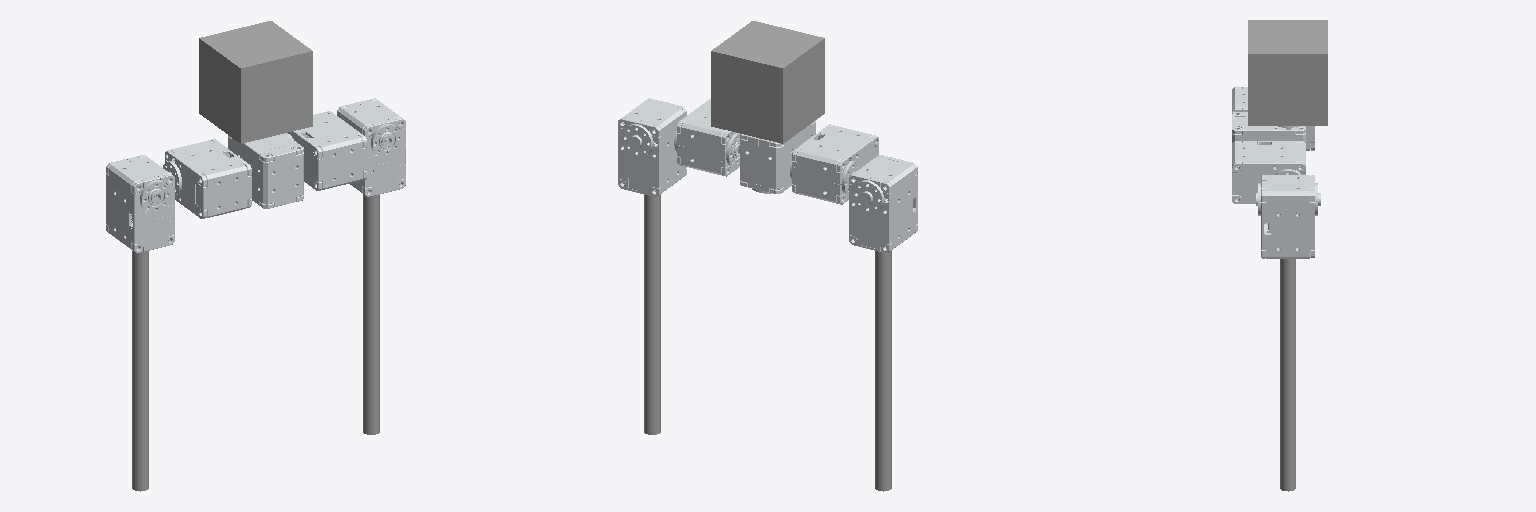
URDF robot description (chopstick_bot):
<?xml version='1.0' encoding='utf-8'?>
<robot name="chopstick_bot">
  <link name="world" />
  <joint name="world_to_base" type="fixed">
    <origin xyz="0.000000 0.000000 0.270000" rpy="0.000000 0.000000 0.000000" />
    <parent link="world" />
    <child link="base_motor_link" />
    </joint>
  <link name="base_motor_link">
    <visual>
      <origin xyz="0.000000 0.000000 0.000000" rpy="0.000000 0.000000 0.000000" />
      <geometry>
        <mesh filename="meshes/XL-430_new_coordinate_on_axis.STL" scale="0.001000 0.001000 0.001000" />
        </geometry>
      <material name="motor_mat">
        <color rgba="0.89804 0.91765 0.92941 1.0" />
        </material>
      </visual>
    <collision>
      <origin xyz="0.000000 -0.012000 0.000000" rpy="0.000000 0.000000 0.000000" />
      <geometry>
        <box size="0.028500 0.046500 0.034000" />
        </geometry>
      </collision>
    <inertial>
      <origin xyz="0.000000 -0.012000 0.000000" rpy="0.000000 0.000000 0.000000" />
      <mass value="0.065000" />
      <inertia ixx="0.000017973854" ixy="0" ixz="0" iyy="0.000010661354" iyz="0" izz="0.000016111875" />
      </inertial>
    </link>
  <link name="l_hip_pitch">
    <visual>
      <origin xyz="0.000000 0.000000 0.000000" rpy="0.000000 0.000000 0.000000" />
      <geometry>
        <mesh filename="meshes/XL-430_new_coordinate_on_axis.STL" scale="0.001000 0.001000 0.001000" />
        </geometry>
      <material name="motor_mat">
        <color rgba="0.89804 0.91765 0.92941 1.0" />
        </material>
      </visual>
    <collision>
      <origin xyz="0.000000 -0.012000 0.000000" rpy="0.000000 0.000000 0.000000" />
      <geometry>
        <box size="0.028500 0.046500 0.034000" />
        </geometry>
      </collision>
    <inertial>
      <origin xyz="0.000000 -0.012000 0.000000" rpy="0.000000 0.000000 0.000000" />
      <mass value="0.065000" />
      <inertia ixx="0.000017973854" ixy="0" ixz="0" iyy="0.000010661354" iyz="0" izz="0.000016111875" />
      </inertial>
    </link>
  <link name="l_hip_pitch_out">
    <inertial>
      <origin xyz="0.000000 0.000000 0.000000" rpy="0.000000 0.000000 0.000000" />
      <mass value="0.001000" />
      <inertia ixx="0.000000016667" ixy="0" ixz="0" iyy="0.000000016667" iyz="0" izz="0.000000016667" />
      </inertial>
    </link>
  <joint name="l_hip_pitch_mount_fixed" type="fixed">
    <origin xyz="-0.040000 0.000000 0.000000" rpy="0.000000 -1.570796 0.000000" />
    <parent link="base_motor_link" />
    <child link="l_hip_pitch" />
    </joint>
  <joint name="l_hip_pitch_joint" type="revolute">
    <origin xyz="0.000000 0.000000 0.000000" rpy="0.000000 0.000000 0.000000" />
    <parent link="l_hip_pitch" />
    <child link="l_hip_pitch_out" />
    <axis xyz="0.000000 0.000000 1.000000" />
    <limit lower="-3.14159" upper="3.14159" effort="5.0" velocity="8.0" />
    </joint>
  <link name="l_hip_roll">
    <visual>
      <origin xyz="0.000000 0.000000 0.000000" rpy="0.000000 0.000000 0.000000" />
      <geometry>
        <mesh filename="meshes/XL-430_new_coordinate_on_axis.STL" scale="0.001000 0.001000 0.001000" />
        </geometry>
      <material name="motor_mat">
        <color rgba="0.89804 0.91765 0.92941 1.0" />
        </material>
      </visual>
    <collision>
      <origin xyz="0.000000 -0.012000 0.000000" rpy="0.000000 0.000000 0.000000" />
      <geometry>
        <box size="0.028500 0.046500 0.034000" />
        </geometry>
      </collision>
    <inertial>
      <origin xyz="0.000000 -0.012000 0.000000" rpy="0.000000 0.000000 0.000000" />
      <mass value="0.065000" />
      <inertia ixx="0.000017973854" ixy="0" ixz="0" iyy="0.000010661354" iyz="0" izz="0.000016111875" />
      </inertial>
    </link>
  <link name="l_hip_roll_out">
    <inertial>
      <origin xyz="0.000000 0.000000 0.000000" rpy="0.000000 0.000000 0.000000" />
      <mass value="0.001000" />
      <inertia ixx="0.000000016667" ixy="0" ixz="0" iyy="0.000000016667" iyz="0" izz="0.000000016667" />
      </inertial>
    </link>
  <joint name="l_hip_roll_mount_fixed" type="fixed">
    <origin xyz="0.000000 0.000000 0.040000" rpy="0.000000 -1.570796 -1.570796" />
    <parent link="l_hip_pitch_out" />
    <child link="l_hip_roll" />
    </joint>
  <joint name="l_hip_roll_joint" type="revolute">
    <origin xyz="0.000000 0.000000 0.000000" rpy="0.000000 0.000000 0.000000" />
    <parent link="l_hip_roll" />
    <child link="l_hip_roll_out" />
    <axis xyz="0.000000 0.000000 1.000000" />
    <limit lower="-3.14159" upper="3.14159" effort="5.0" velocity="8.0" />
    </joint>
  <link name="l_end_effector">
    <visual>
      <origin xyz="0.000000 0.000000 0.000000" rpy="1.570796 0.000000 0.000000" />
      <geometry>
        <cylinder radius="0.005000" length="0.200000" />
        </geometry>
      <material name="cylinder_mat">
        <color rgba="0.7 0.7 0.7 1.0" />
        </material>
      </visual>
    <collision>
      <origin xyz="0.000000 -0.100000 0.000000" rpy="0.000000 0.000000 0.000000" />
      <geometry>
        <box size="0.020000 0.020000 0.020000" />
        </geometry>
      </collision>
    <inertial>
      <origin xyz="0.000000 0.000000 0.000000" rpy="0.000000 0.000000 0.000000" />
      <mass value="0.007854" />
      <inertia ixx="0.000026229026" ixy="0" ixz="0" iyy="0.000026229026" iyz="0" izz="0.000000098175" />
      </inertial>
    </link>
  <joint name="l_end_effector_fixed" type="fixed">
    <origin xyz="0.000000 -0.100000 0.000000" rpy="0.000000 0.000000 0.000000" />
    <parent link="l_hip_roll_out" />
    <child link="l_end_effector" />
    </joint>
  <link name="r_hip_pitch">
    <visual>
      <origin xyz="0.000000 0.000000 0.000000" rpy="0.000000 0.000000 0.000000" />
      <geometry>
        <mesh filename="meshes/XL-430_new_coordinate_on_axis.STL" scale="0.001000 0.001000 0.001000" />
        </geometry>
      <material name="motor_mat">
        <color rgba="0.89804 0.91765 0.92941 1.0" />
        </material>
      </visual>
    <collision>
      <origin xyz="0.000000 -0.012000 0.000000" rpy="0.000000 0.000000 0.000000" />
      <geometry>
        <box size="0.028500 0.046500 0.034000" />
        </geometry>
      </collision>
    <inertial>
      <origin xyz="0.000000 -0.012000 0.000000" rpy="0.000000 0.000000 0.000000" />
      <mass value="0.065000" />
      <inertia ixx="0.000017973854" ixy="0" ixz="0" iyy="0.000010661354" iyz="0" izz="0.000016111875" />
      </inertial>
    </link>
  <link name="r_hip_pitch_out">
    <inertial>
      <origin xyz="0.000000 0.000000 0.000000" rpy="0.000000 0.000000 0.000000" />
      <mass value="0.001000" />
      <inertia ixx="0.000000016667" ixy="0" ixz="0" iyy="0.000000016667" iyz="0" izz="0.000000016667" />
      </inertial>
    </link>
  <joint name="r_hip_pitch_mount_fixed" type="fixed">
    <origin xyz="0.040000 0.000000 0.000000" rpy="0.000000 1.570796 -0.000000" />
    <parent link="base_motor_link" />
    <child link="r_hip_pitch" />
    </joint>
  <joint name="r_hip_pitch_joint" type="revolute">
    <origin xyz="0.000000 0.000000 0.000000" rpy="0.000000 0.000000 0.000000" />
    <parent link="r_hip_pitch" />
    <child link="r_hip_pitch_out" />
    <axis xyz="0.000000 0.000000 1.000000" />
    <limit lower="-3.14159" upper="3.14159" effort="5.0" velocity="8.0" />
    </joint>
  <link name="r_hip_roll">
    <visual>
      <origin xyz="0.000000 0.000000 0.000000" rpy="0.000000 0.000000 0.000000" />
      <geometry>
        <mesh filename="meshes/XL-430_new_coordinate_on_axis.STL" scale="0.001000 0.001000 0.001000" />
        </geometry>
      <material name="motor_mat">
        <color rgba="0.89804 0.91765 0.92941 1.0" />
        </material>
      </visual>
    <collision>
      <origin xyz="0.000000 -0.012000 0.000000" rpy="0.000000 0.000000 0.000000" />
      <geometry>
        <box size="0.028500 0.046500 0.034000" />
        </geometry>
      </collision>
    <inertial>
      <origin xyz="0.000000 -0.012000 0.000000" rpy="0.000000 0.000000 0.000000" />
      <mass value="0.065000" />
      <inertia ixx="0.000017973854" ixy="0" ixz="0" iyy="0.000010661354" iyz="0" izz="0.000016111875" />
      </inertial>
    </link>
  <link name="r_hip_roll_out">
    <inertial>
      <origin xyz="0.000000 0.000000 0.000000" rpy="0.000000 0.000000 0.000000" />
      <mass value="0.001000" />
      <inertia ixx="0.000000016667" ixy="0" ixz="0" iyy="0.000000016667" iyz="0" izz="0.000000016667" />
      </inertial>
    </link>
  <joint name="r_hip_roll_mount_fixed" type="fixed">
    <origin xyz="-0.000000 0.000000 0.040000" rpy="0.000000 1.570796 1.570796" />
    <parent link="r_hip_pitch_out" />
    <child link="r_hip_roll" />
    </joint>
  <joint name="r_hip_roll_joint" type="revolute">
    <origin xyz="0.000000 0.000000 0.000000" rpy="0.000000 0.000000 0.000000" />
    <parent link="r_hip_roll" />
    <child link="r_hip_roll_out" />
    <axis xyz="0.000000 0.000000 1.000000" />
    <limit lower="-3.14159" upper="3.14159" effort="5.0" velocity="8.0" />
    </joint>
  <link name="r_end_effector">
    <visual>
      <origin xyz="0.000000 0.000000 0.000000" rpy="1.570796 0.000000 0.000000" />
      <geometry>
        <cylinder radius="0.005000" length="0.200000" />
        </geometry>
      <material name="cylinder_mat">
        <color rgba="0.7 0.7 0.7 1.0" />
        </material>
      </visual>
    <collision>
      <origin xyz="0.000000 -0.100000 0.000000" rpy="0.000000 0.000000 0.000000" />
      <geometry>
        <box size="0.020000 0.020000 0.020000" />
        </geometry>
      </collision>
    <inertial>
      <origin xyz="0.000000 0.000000 0.000000" rpy="0.000000 0.000000 0.000000" />
      <mass value="0.007854" />
      <inertia ixx="0.000026229026" ixy="0" ixz="0" iyy="0.000026229026" iyz="0" izz="0.000000098175" />
      </inertial>
    </link>
  <joint name="r_end_effector_fixed" type="fixed">
    <origin xyz="-0.000000 -0.100000 0.000000" rpy="0.000000 -0.000000 0.000000" />
    <parent link="r_hip_roll_out" />
    <child link="r_end_effector" />
    </joint>
  <link name="trunk_link">
    <visual>
      <origin xyz="0.000000 0.000000 0.000000" rpy="0.000000 0.000000 0.000000" />
      <geometry>
        <box size="0.050000 0.050000 0.050000" />
        </geometry>
      <material name="box_mat">
        <color rgba="0.7 0.7 0.7 1.0" />
        </material>
      </visual>
    <collision>
      <origin xyz="0.000000 0.000000 0.000000" rpy="0.000000 0.000000 0.000000" />
      <geometry>
        <box size="0.050000 0.050000 0.050000" />
        </geometry>
      </collision>
    <inertial>
      <origin xyz="0.000000 0.000000 0.000000" rpy="0.000000 0.000000 0.000000" />
      <mass value="0.200000" />
      <inertia ixx="0.000083333333" ixy="0" ixz="0" iyy="0.000083333333" iyz="0" izz="0.000083333333" />
      </inertial>
    </link>
  <joint name="base_to_trunk" type="revolute">
    <origin xyz="0.000000 0.000000 0.050000" rpy="0.000000 0.000000 0.000000" />
    <parent link="base_motor_link" />
    <child link="trunk_link" />
    <axis xyz="0.000000 0.000000 1.000000" />
    <limit lower="-3.14159" upper="3.14159" effort="5.0" velocity="8.0" />
    </joint>
  </robot>

--- What the picture shows (computed from the rendered views, not written in the file) ---
The picture shows the robot from 3 angles, left to right: view 1: azimuth 30°, elevation 25°; view 2: azimuth 150°, elevation 25°; view 3: azimuth 270°, elevation 25°; orthographic projection.
Robot: chopstick_bot — 13 links, 12 joints (5 revolute, 7 fixed); root link world; default pose: all joints at 0.
Visible links, largest first — view 1: trunk_link, l_hip_roll, l_hip_pitch, r_hip_pitch, r_hip_roll, r_end_effector, l_end_effector, base_motor_link; view 2: trunk_link, l_hip_roll, r_hip_roll, l_hip_pitch, r_end_effector, l_end_effector, r_hip_pitch, base_motor_link; view 3: trunk_link, r_hip_roll, r_end_effector, r_hip_pitch, base_motor_link.
Link boxes in pixels (x1,y1,x2,y2): trunk_link: [199, 21, 312, 143]; l_hip_roll: [106, 155, 174, 253]; l_hip_pitch: [163, 139, 251, 218]; r_hip_pitch: [285, 111, 366, 190]; r_hip_roll: [337, 98, 405, 196]; r_end_effector: [363, 194, 379, 434]; l_end_effector: [132, 251, 148, 491]; base_motor_link: [228, 133, 303, 208]; trunk_link: [711, 21, 824, 143]; l_hip_roll: [849, 155, 917, 253]; r_hip_roll: [618, 98, 686, 196]; l_hip_pitch: [790, 124, 878, 204]; r_end_effector: [644, 194, 660, 434]; l_end_effector: [875, 251, 891, 491]; r_hip_pitch: [674, 99, 739, 176]; base_motor_link: [740, 120, 815, 193]; trunk_link: [1248, 20, 1327, 125]; r_hip_roll: [1256, 175, 1320, 258]; r_end_effector: [1280, 259, 1295, 491]; r_hip_pitch: [1232, 141, 1305, 203]; base_motor_link: [1232, 112, 1305, 144].
Size in the robot's own frame: 0.1885 by 0.0602 by 0.275 metres.
5 mesh visuals loaded from 1 distinct referenced files (1 binary STL).
